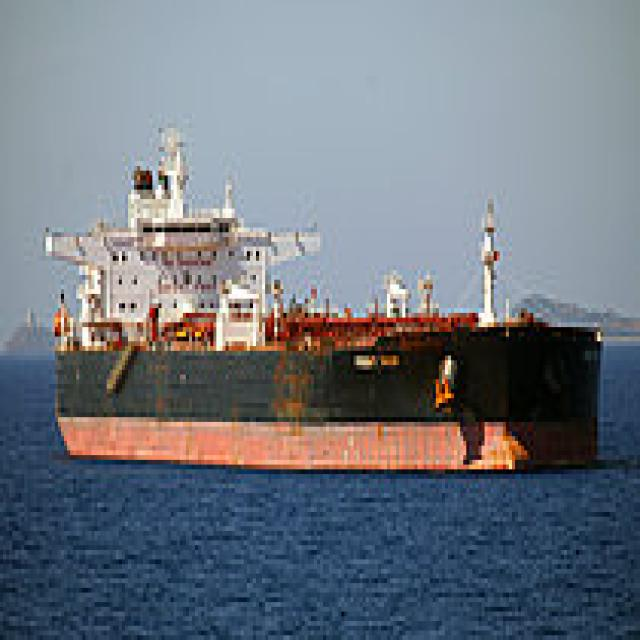Tanker: (36, 114, 606, 474)
